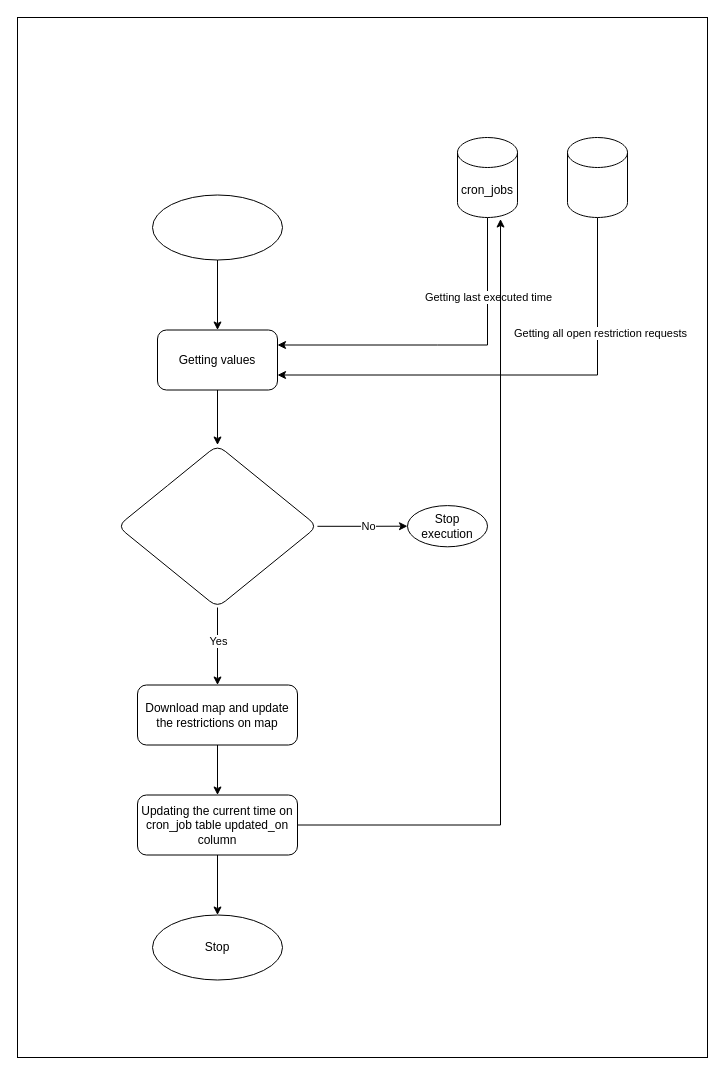
Some shapes in this 725 by 1075 pixel diagram are drawn without their labels. The centre of each missing label's shape, as x and y in pixels:
"if (restriction_created_time > cron_job_last_executed_time)" belongs at point 217,526.
"restrictions requests" belongs at point 597,177.
"Start / Cron job executed" belongs at point 217,227.
